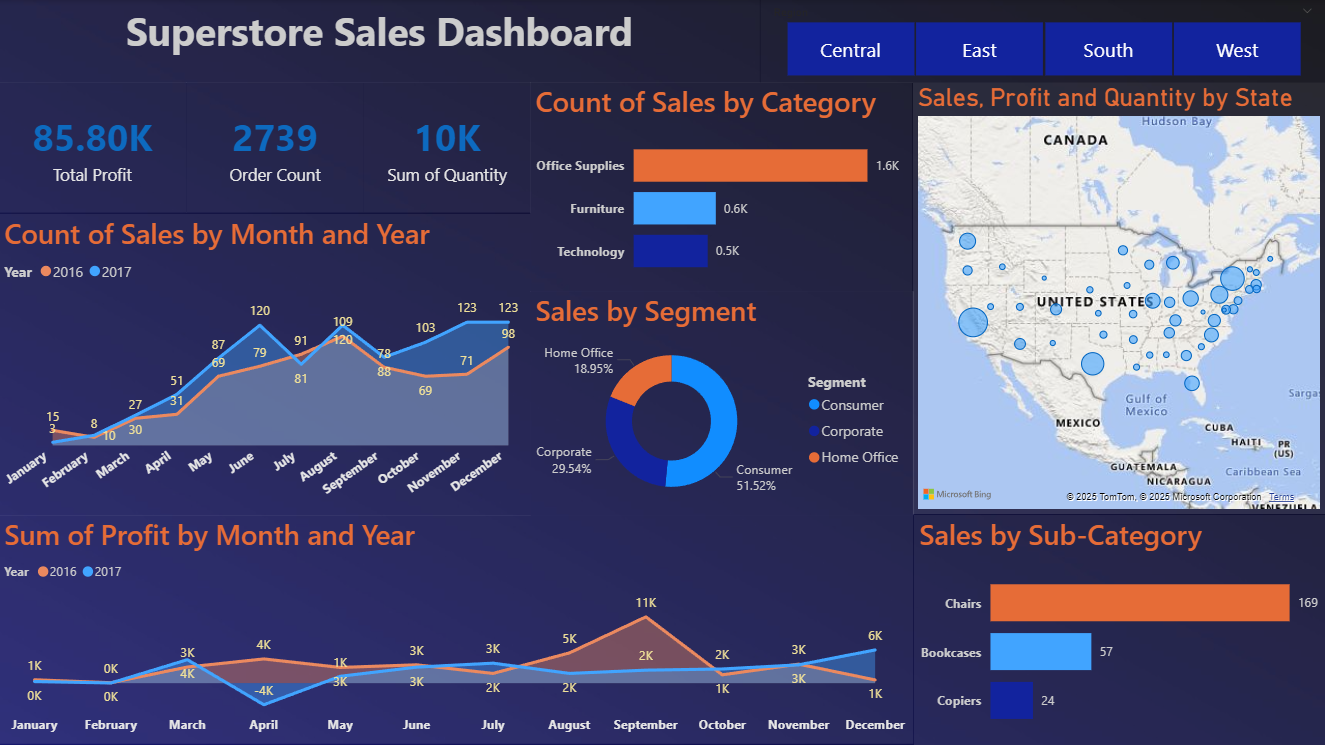

The dashboard page shown, as its layout file describes it:
{"tool":"powerbi","page":{"name":"Page 1","canvas":[1280,720],"ordinal":0},"visuals":[{"type":"clusteredBarChart","fields":{"Category":["Superstore.Category"],"Y":["CountNonNull(Superstore.Sales)"]},"box":[513.2,79.6,369.1,201.7],"z":0},{"type":"clusteredBarChart","title":"Sales by Sub-Category","fields":{"Y":["CountNonNull(Superstore.Sales)"],"Category":["Superstore.Sub-Category"]},"box":[882.9,497.1,397.1,222.9],"z":1000},{"type":"areaChart","fields":{"Category":["Superstore.Ship Date.Variation.Date Hierarchy.Month","Superstore.Ship Date.Variation.Date Hierarchy.Day"],"Y":["CountNonNull(Superstore.Sales)"],"Series":["Superstore.Order Date.Variation.Date Hierarchy.Year"]},"box":[0,205.7,512.9,291.4],"z":2000},{"type":"areaChart","fields":{"Category":["Superstore.Ship Date.Variation.Date Hierarchy.Month","Superstore.Ship Date.Variation.Date Hierarchy.Day"],"Series":["Superstore.Order Date.Variation.Date Hierarchy.Year"],"Y":["Sum(Superstore.Profit)"]},"box":[0,496.7,882.3,220.9],"z":3000},{"type":"map","title":"Sales, Profit and Quantity by State","fields":{"Category":["Superstore.State"],"Size":["CountNonNull(Superstore.Sales)"]},"box":[881.7,80,398.3,416.7],"z":4000},{"type":"donutChart","title":"Sales by Segment","fields":{"Category":["Superstore.Segment"],"Y":["CountNonNull(Superstore.Sales)"]},"box":[512.9,281.4,370,215.7],"z":5000},{"type":"slicer","title":"Region","fields":{"Values":["Superstore.Region"]},"box":[734.3,0,545.7,80],"z":6000},{"type":"textbox","box":[0,0,734.3,80],"z":7000},{"type":"card","fields":{"Values":["Superstore.Order Count"]},"box":[181.4,80,171.4,125.7],"z":8000},{"type":"card","fields":{"Values":["Superstore.Total Profit"]},"box":[0,80,180.8,125.8],"z":9000},{"type":"card","fields":{"Values":["Sum(Superstore.Quantity)"]},"box":[352.5,80,160.8,125.8],"z":10000}]}

Visuals, with their boxes in screenshot pixels (x1, y1, x2, y2), scaled from the page's 1280x720 canvas onto the 1325x745 screenshot:
clusteredBarChart - Superstore.Category x CountNonNull(Superstore.Sales): pyautogui.locateOnScreen(531, 82, 913, 291)
"Sales by Sub-Category" clusteredBarChart: pyautogui.locateOnScreen(914, 514, 1324, 744)
areaChart - Superstore.Ship Date.Variation.Date Hierarchy.Month x Superstore.Ship Date.Variation.Date Hierarchy.Day: pyautogui.locateOnScreen(0, 213, 531, 514)
areaChart - Superstore.Ship Date.Variation.Date Hierarchy.Month x Superstore.Ship Date.Variation.Date Hierarchy.Day: pyautogui.locateOnScreen(0, 514, 913, 743)
"Sales, Profit and Quantity by State" map: pyautogui.locateOnScreen(913, 83, 1324, 514)
"Sales by Segment" donutChart: pyautogui.locateOnScreen(531, 291, 914, 514)
"Region" slicer: pyautogui.locateOnScreen(760, 0, 1324, 83)
textbox: pyautogui.locateOnScreen(0, 0, 760, 83)
card - Superstore.Order Count: pyautogui.locateOnScreen(188, 83, 365, 213)
card - Superstore.Total Profit: pyautogui.locateOnScreen(0, 83, 187, 213)
card - Sum(Superstore.Quantity): pyautogui.locateOnScreen(365, 83, 531, 213)
